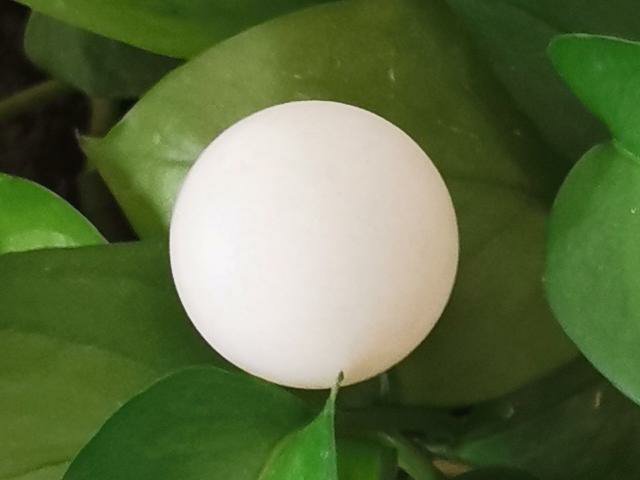ball: (168, 97, 459, 390)
